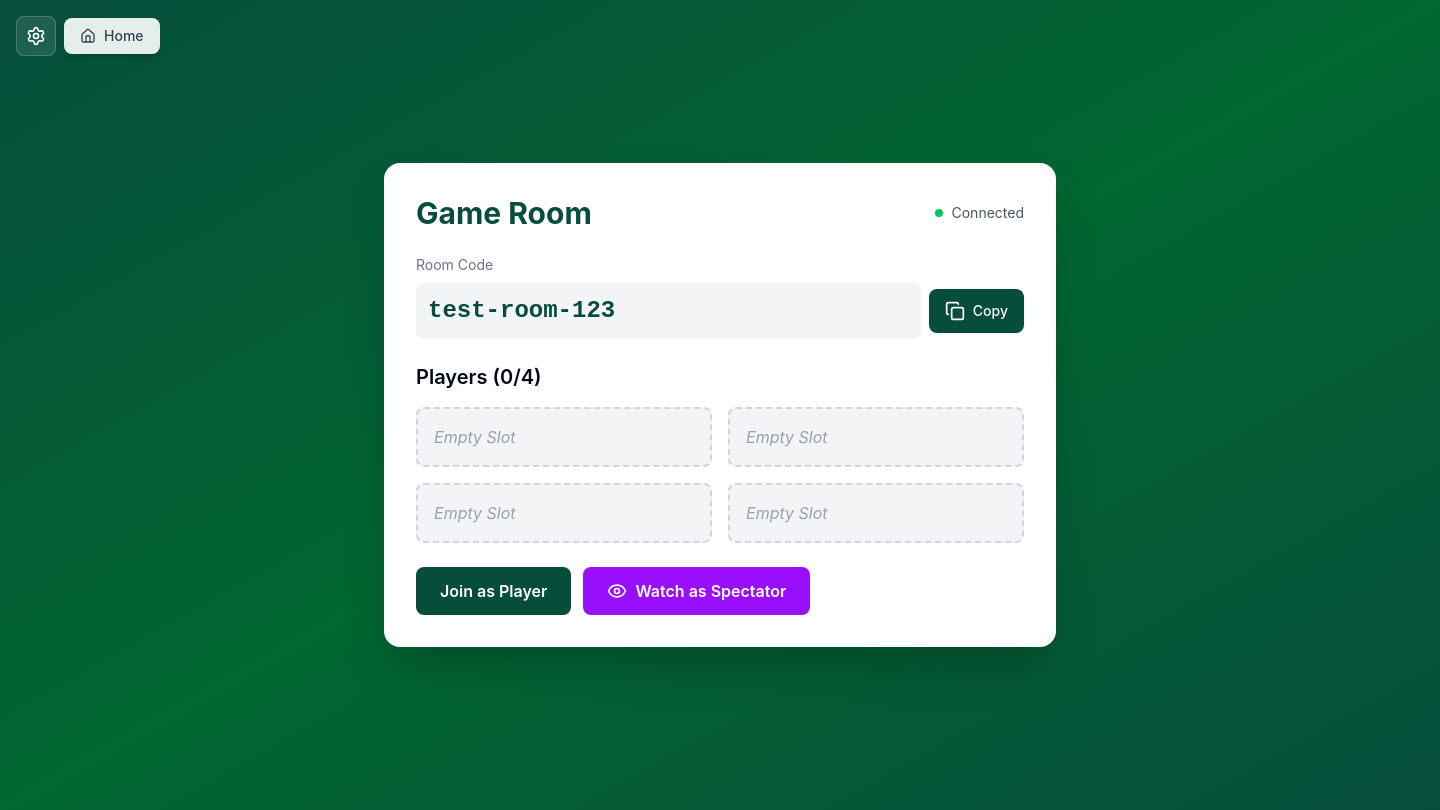
GameLobby Component › Copy Button Functionality › shows 'Copied!' feedback after copying
What coordinates should you click on to do the following:
click the button "Copy"
I would click on:
 (976, 311)
Its box is [929,289,1024,333].
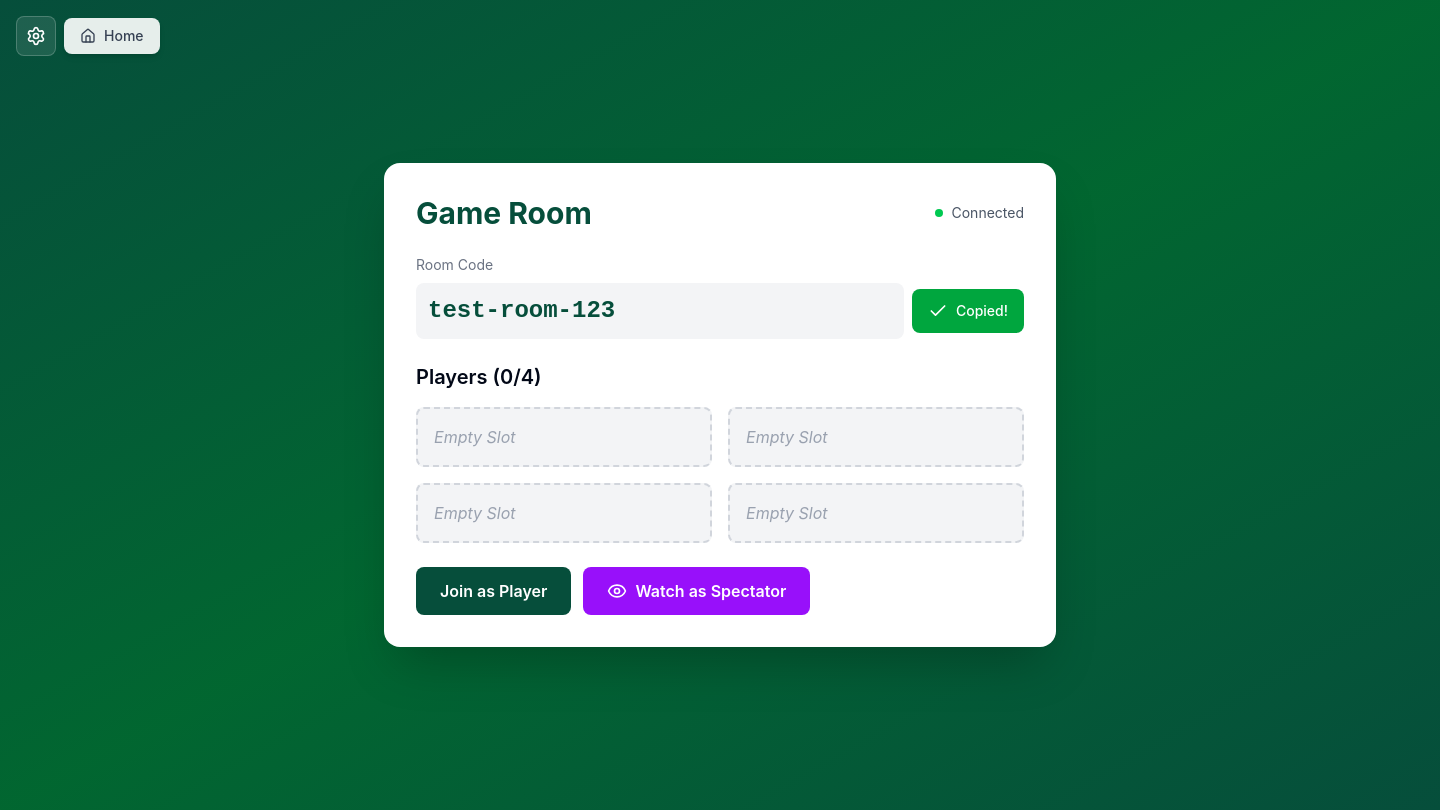
Result: the text "Copied!" is shown at [956,301,1008,321]
